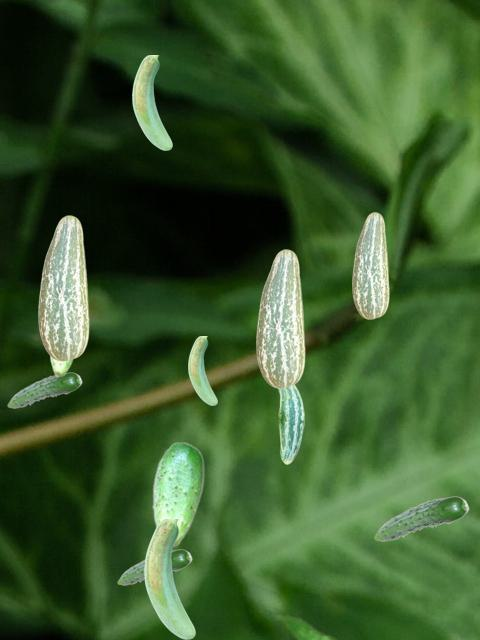cucumber: (38, 215, 88, 360), (256, 249, 304, 387), (144, 519, 194, 638), (152, 441, 203, 547), (374, 496, 468, 540), (352, 212, 388, 318), (132, 55, 171, 149), (7, 372, 81, 407), (117, 549, 191, 584), (277, 385, 303, 463), (188, 336, 216, 404), (49, 356, 73, 376)
